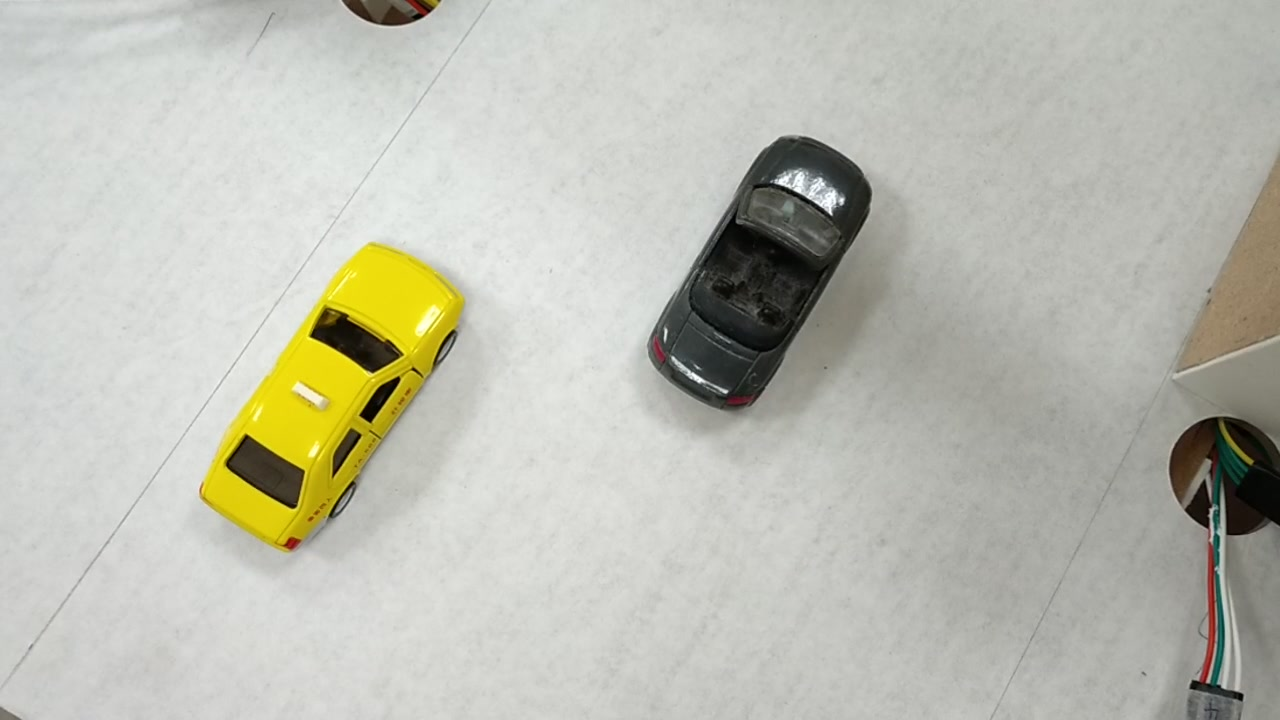car: (200, 264, 459, 532), (649, 144, 871, 401)
